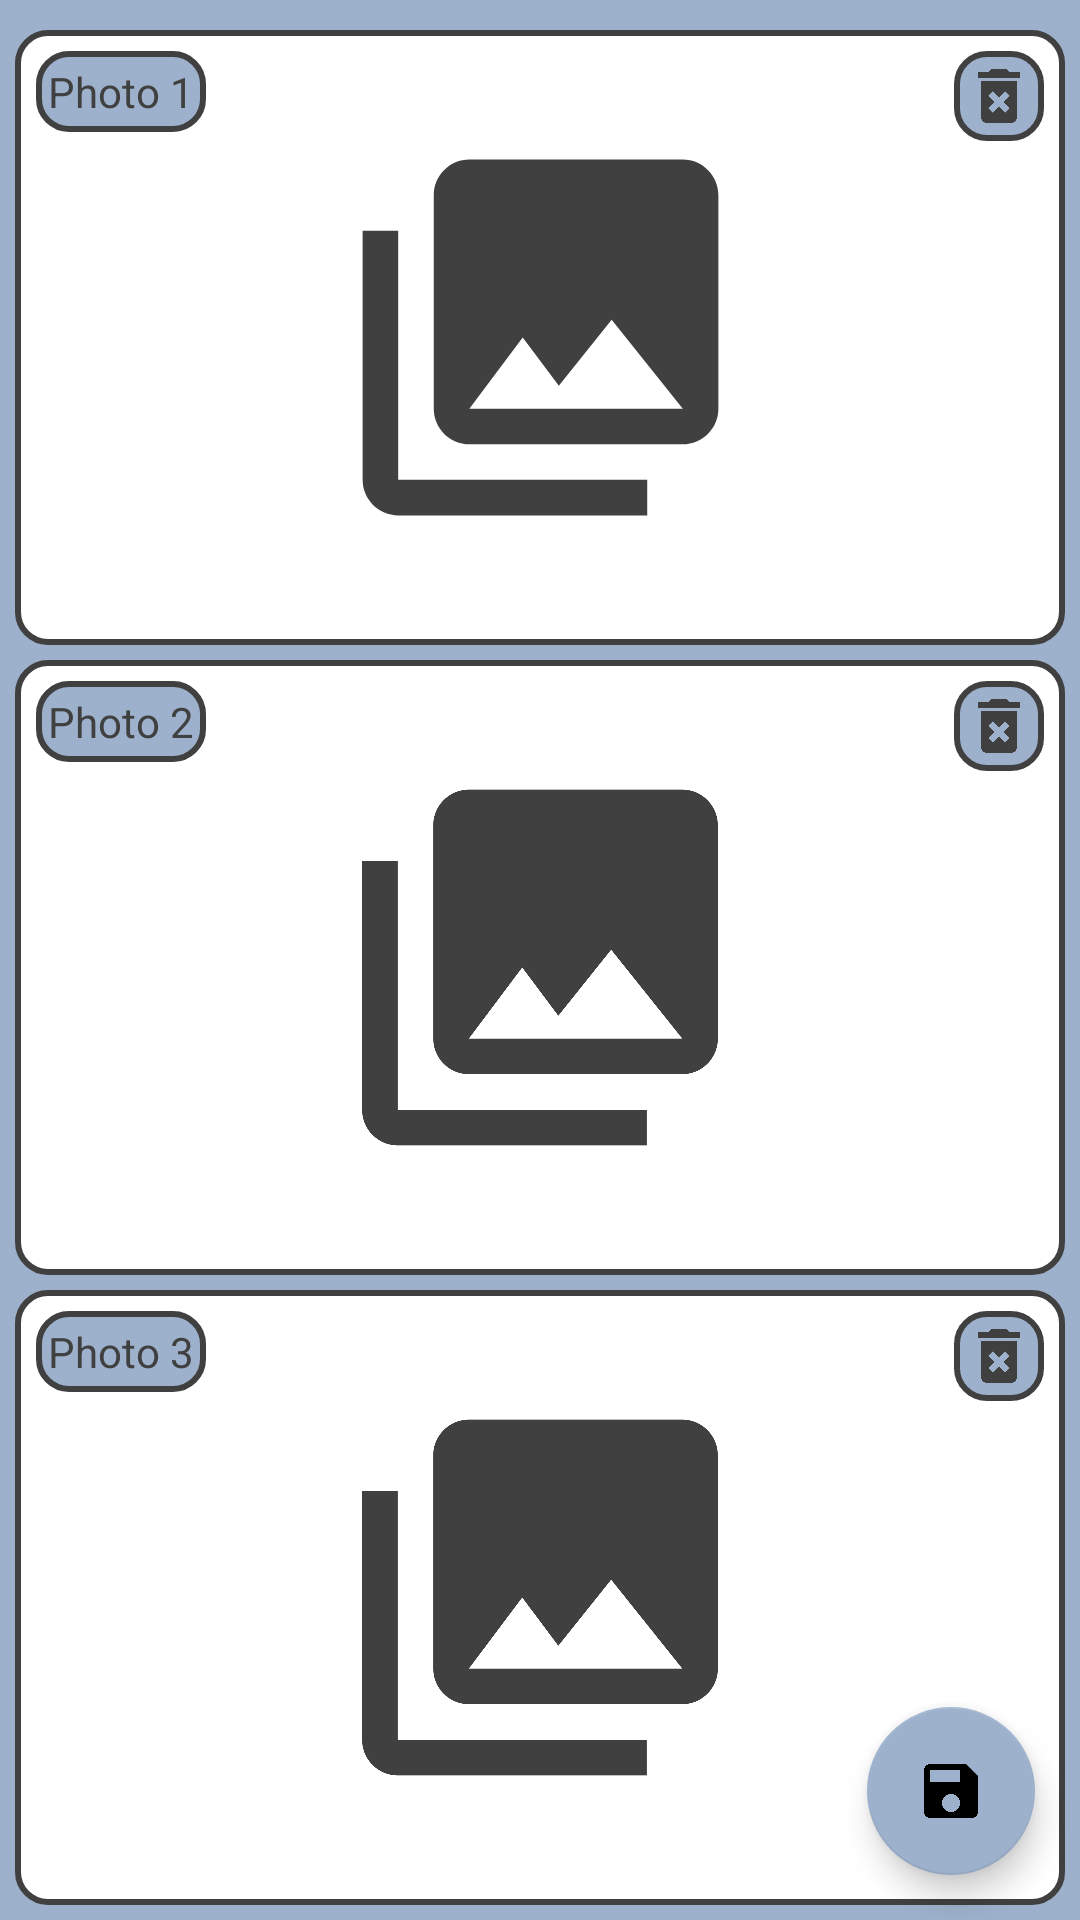

Where icons sit on this 1080w x 1920h app screen, as (x1, y1, x2, y2):
delete: (954, 51, 1044, 141), (954, 681, 1044, 771), (954, 1311, 1044, 1401)
save photo: (867, 1707, 1035, 1875)
